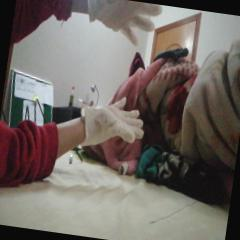gloved: (76, 92, 148, 154), (80, 0, 163, 50)
